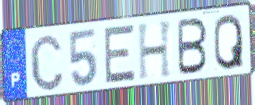5: (67, 27, 99, 89)
B: (177, 17, 209, 77)
C: (29, 32, 66, 94)
E: (103, 22, 137, 86)
H: (136, 18, 174, 82)
Q: (213, 12, 246, 73)
